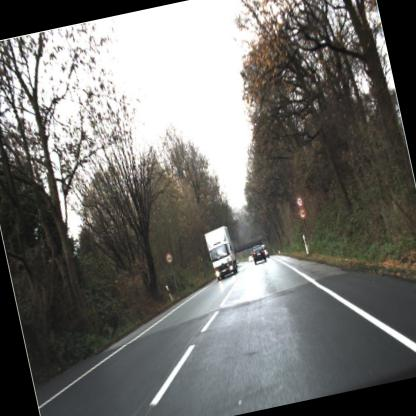prohibitory: (162, 251, 176, 266), (296, 205, 308, 222), (292, 192, 304, 206)
